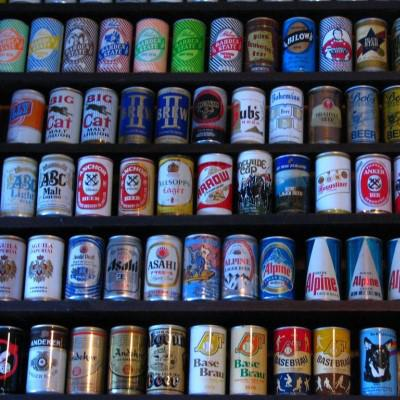beer: (1, 18, 400, 398)
